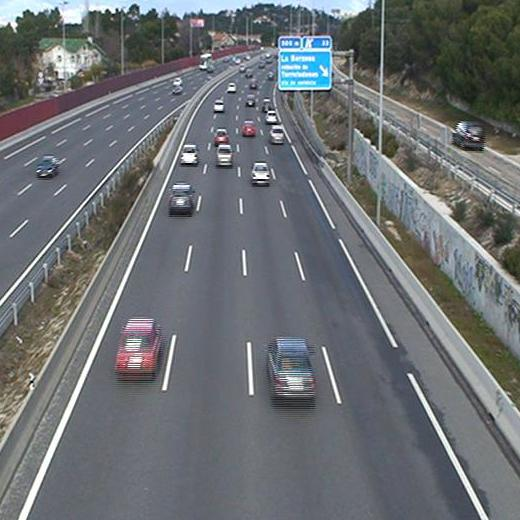car: (260, 333, 323, 411), (111, 313, 167, 388), (165, 179, 200, 219), (247, 158, 274, 190), (212, 142, 237, 172), (176, 141, 201, 170), (265, 120, 288, 149), (237, 117, 258, 140), (210, 126, 231, 149), (264, 108, 281, 125), (242, 93, 259, 109), (211, 98, 227, 114), (262, 97, 277, 113)
